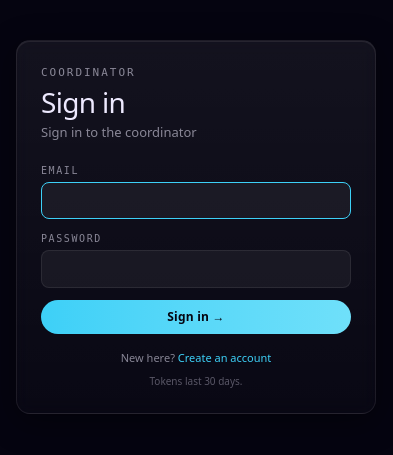
shows a rate-limit hint on 429
The width and height of the screenshot is (393, 455).
In the field labelled "Email": {"x": 196, "y": 201} [41,182,351,219], type "ada@studio.dev"
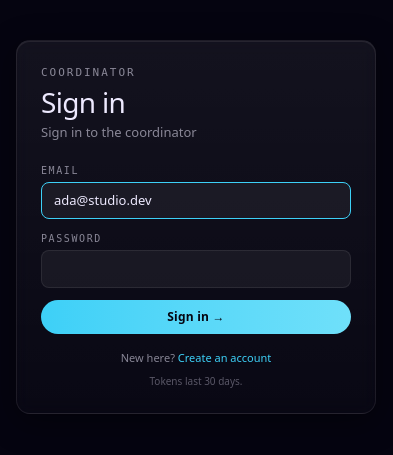
In the password field labelled "Password": {"x": 196, "y": 269} [41,250,351,288], type "pw"
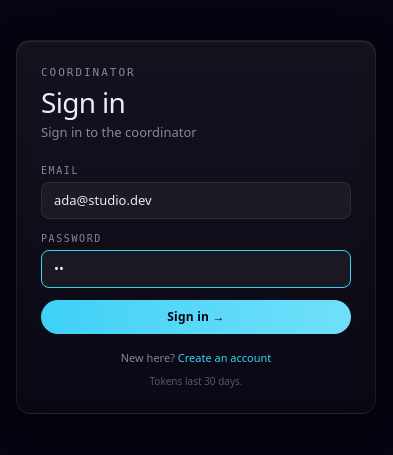
Click the button "Sign in →": {"x": 196, "y": 317} [41,300,351,334]
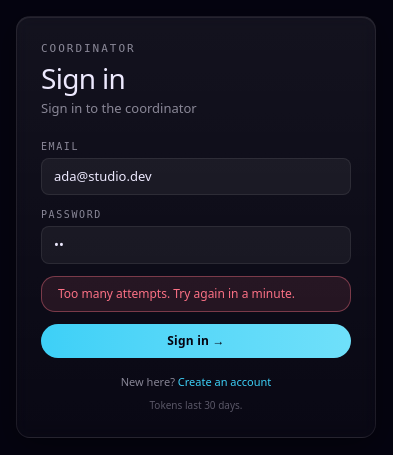
Expected: the text "Too many attempts. Try again in a minute." is shown, [41,276,351,312]
